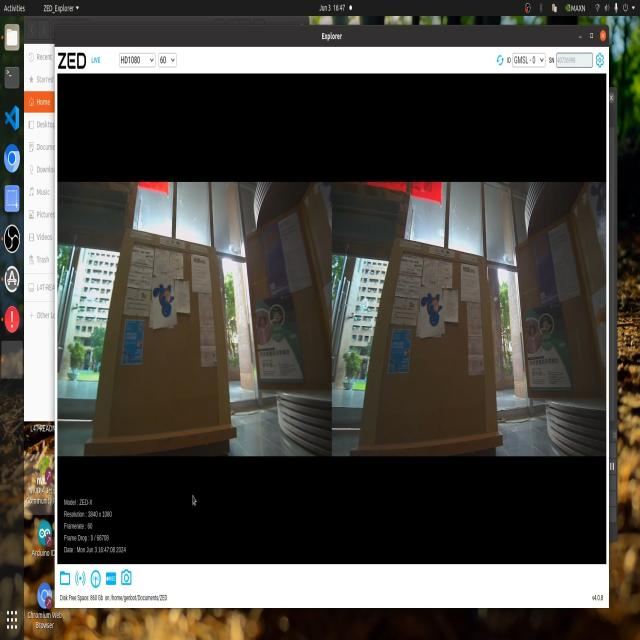blue: (135, 278, 177, 322), (415, 287, 448, 338)
